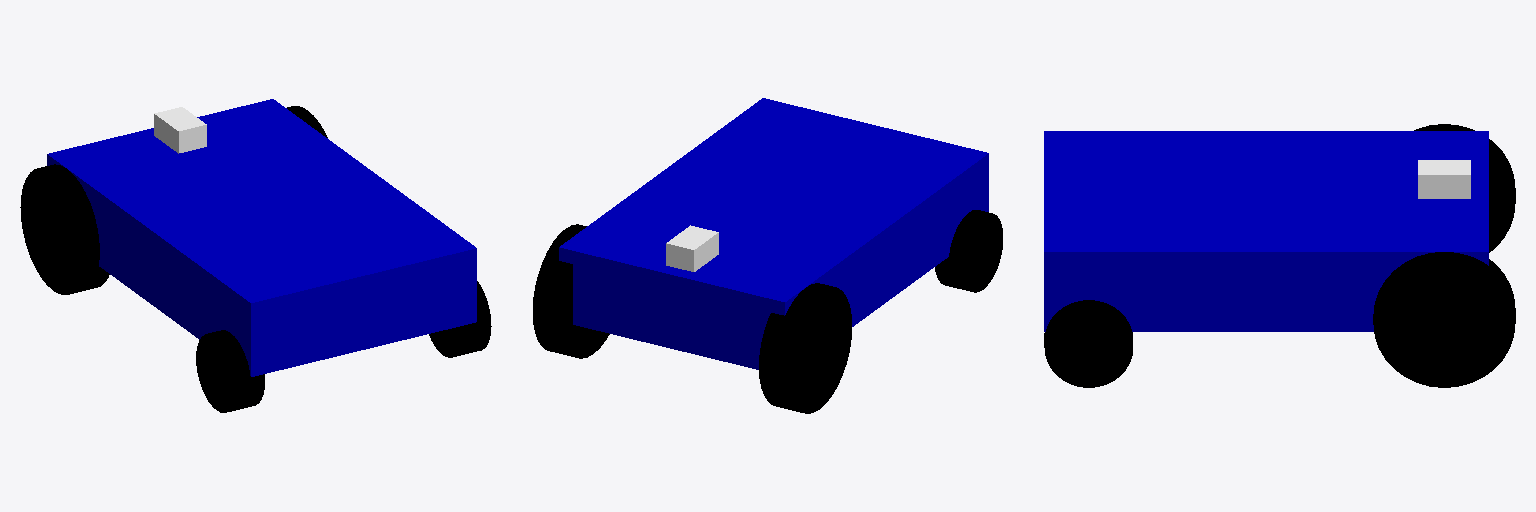
URDF robot description (smartcar):
<?xml version="1.0"?>  
<robot name="smartcar">  
  <link name="base_link">  
    <visual>  
      <geometry>  
        <box size="0.25 .16 .05"/>  
    </geometry>  
    <origin rpy="0 0 1.57075" xyz="0 0 0"/>  
    <material name="blue">  
        <color rgba="0 0 .8 1"/>  
    </material>  
    </visual>  
 </link>  
  
 <link name="right_front_wheel">  
    <visual>  
      <geometry>  
        <cylinder length=".02" radius="0.04"/>  
      </geometry>  
      <material name="black">  
        <color rgba="0 0 0 1"/>  
      </material>  
    </visual>  
  </link>  
  
  <joint name="right_front_wheel_joint" type="continuous">  
    <axis xyz="0 0 1"/>  
    <parent link="base_link"/>  
    <child link="right_front_wheel"/>  
    <origin rpy="0 1.57075 0" xyz="0.08 0.1 -0.015"/>  
    <limit effort="100" velocity="100"/>  
    <joint_properties damping="0.0" friction="0.0"/>  
  </joint>  
  
  <link name="right_back_wheel">  
    <visual>  
      <geometry>  
        <cylinder length=".02" radius="0.025"/>  
      </geometry>  
      <material name="black">  
        <color rgba="0 0 0 1"/>  
      </material>  
    </visual>  
  </link>  
  
  <joint name="right_back_wheel_joint" type="continuous">  
    <axis xyz="0 0 1"/>  
    <parent link="base_link"/>  
    <child link="right_back_wheel"/>  
    <origin rpy="0 1.57075 0" xyz="0.08 -0.1 -0.03"/>  
    <limit effort="100" velocity="100"/>  
    <joint_properties damping="0.0" friction="0.0"/>  
 </joint>  
  
 <link name="left_front_wheel">  
    <visual>  
      <geometry>  
        <cylinder length=".02" radius="0.04"/>  
      </geometry>  
      <material name="black">  
        <color rgba="0 0 0 1"/>  
      </material>  
    </visual>  
  </link>  
  
  <joint name="left_front_wheel_joint" type="continuous">  
    <axis xyz="0 0 1"/>  
    <parent link="base_link"/>  
    <child link="left_front_wheel"/>  
    <origin rpy="0 1.57075 0" xyz="-0.08 0.1 -0.015"/>  
    <limit effort="100" velocity="100"/>  
    <joint_properties damping="0.0" friction="0.0"/>  
  </joint>  
  
  <link name="left_back_wheel">  
    <visual>  
      <geometry>  
        <cylinder length=".02" radius="0.025"/>  
      </geometry>  
      <material name="black">  
        <color rgba="0 0 0 1"/>  
      </material>  
    </visual>  
  </link>  
  
  <joint name="left_back_wheel_joint" type="continuous">  
    <axis xyz="0 0 1"/>  
    <parent link="base_link"/>  
    <child link="left_back_wheel"/>  
    <origin rpy="0 1.57075 0" xyz="-0.08 -0.1 -0.03"/>  
    <limit effort="100" velocity="100"/>  
    <joint_properties damping="0.0" friction="0.0"/>  
  </joint>  
  
  <link name="lidar">  
    <visual>  
      <geometry>  
        <box size=".02 .03 .03"/>  
      </geometry>  
      <material name="white">  
          <color rgba="1 1 1 1"/>  
      </material>  
    </visual>  
  </link>  
  
  <joint name="tobox" type="fixed">  
    <parent link="base_link"/>  
    <child link="lidar"/>  
    <origin xyz="0 0.1 0.025"/>  
  </joint>  
</robot>

--- What the picture shows (computed from the rendered views, not written in the file) ---
Views: 3 orthographic renders of the robot side by side, from view 1: azimuth 30°, elevation 25°; view 2: azimuth 150°, elevation 25°; view 3: azimuth 270°, elevation 25°.
Model smartcar with 6 links and 5 joints (4 continuous, 1 fixed), rooted at base_link, posed all joints at 0.
Links seen in each view (by area): view 1: base_link, left_front_wheel, left_back_wheel, right_back_wheel, lidar; view 2: base_link, left_front_wheel, right_front_wheel, left_back_wheel, lidar; view 3: base_link, right_front_wheel, right_back_wheel, left_front_wheel, lidar.
Link boxes in pixels (x1,y1,x2,y2): base_link: (47, 99, 476, 376); left_front_wheel: (20, 164, 109, 294); left_back_wheel: (196, 330, 264, 412); right_back_wheel: (429, 281, 491, 357); lidar: (154, 107, 206, 153); base_link: (559, 98, 988, 369); left_front_wheel: (759, 283, 851, 413); right_front_wheel: (533, 224, 609, 358); left_back_wheel: (935, 210, 1002, 292); lidar: (666, 225, 718, 271); base_link: (1044, 131, 1488, 331); right_front_wheel: (1373, 252, 1515, 387); right_back_wheel: (1044, 300, 1132, 387); left_front_wheel: (1414, 124, 1515, 252); lidar: (1418, 160, 1470, 198).
Size in the robot's own frame: 0.18 by 0.265 by 0.095 metres.
Geometry: primitives only (box / cylinder / sphere), no mesh files.